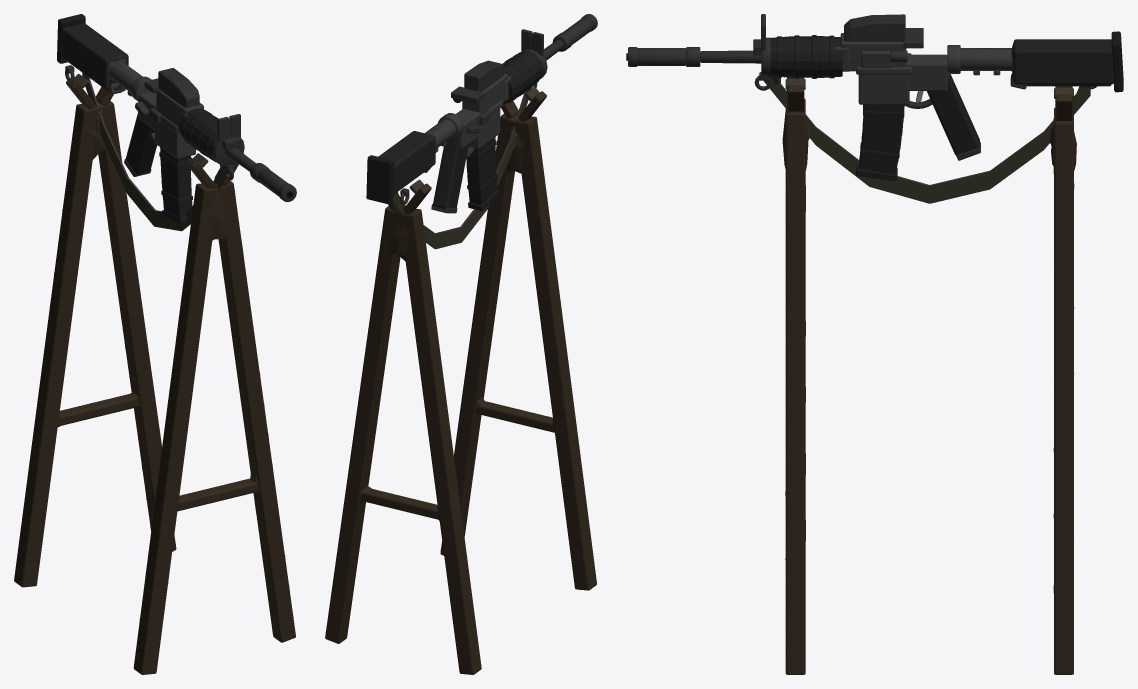
File: carbine_w.glb
3 views of the same model, side by side, from view 1: azimuth 30°, elevation 25°; view 2: azimuth 150°, elevation 25°; view 3: azimuth 270°, elevation 25° (orthographic). The views are drawn at different scales.
Visible parts, largest first — view 1: L0_00_hull_opaque, L2_02_hull_opaque, L1_01_hull_opaque; view 2: L0_00_hull_opaque, L2_02_hull_opaque, L1_01_hull_opaque; view 3: L0_00_hull_opaque, L1_01_hull_opaque, L2_02_hull_opaque.
Part boxes in pixels (box(x1,y1,x2,y2)): L0_00_hull_opaque: box(14, 14, 296, 674); L2_02_hull_opaque: box(18, 104, 288, 671); L1_01_hull_opaque: box(22, 29, 293, 671); L0_00_hull_opaque: box(325, 14, 597, 674); L2_02_hull_opaque: box(378, 117, 594, 663); L1_01_hull_opaque: box(327, 40, 589, 671); L0_00_hull_opaque: box(626, 14, 1123, 674); L1_01_hull_opaque: box(702, 37, 1112, 673); L2_02_hull_opaque: box(782, 109, 1076, 674).
Size of the model in its own units: 0.299 by 1.02 by 0.7413.
